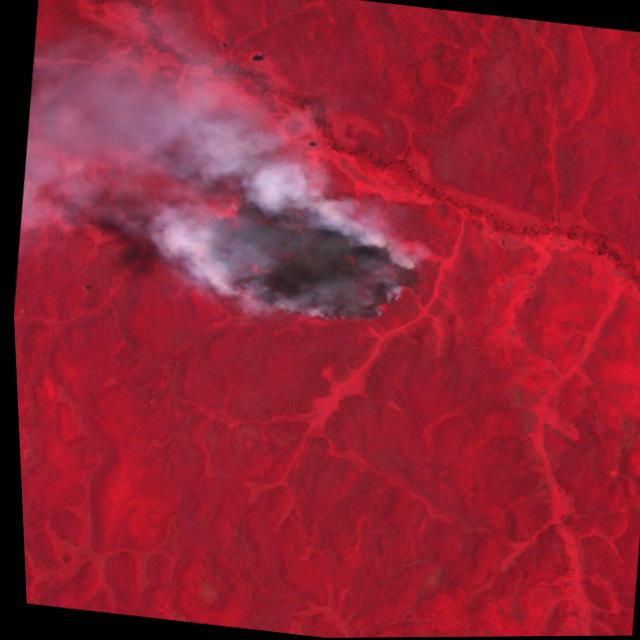fire: (165, 183, 430, 342)
